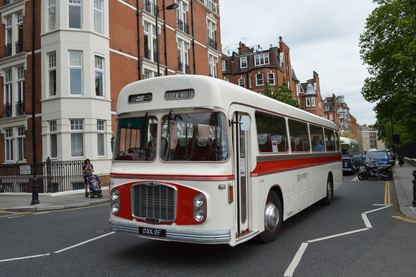bus: (109, 76, 344, 245), (327, 136, 361, 174)
car: (362, 148, 397, 168)
